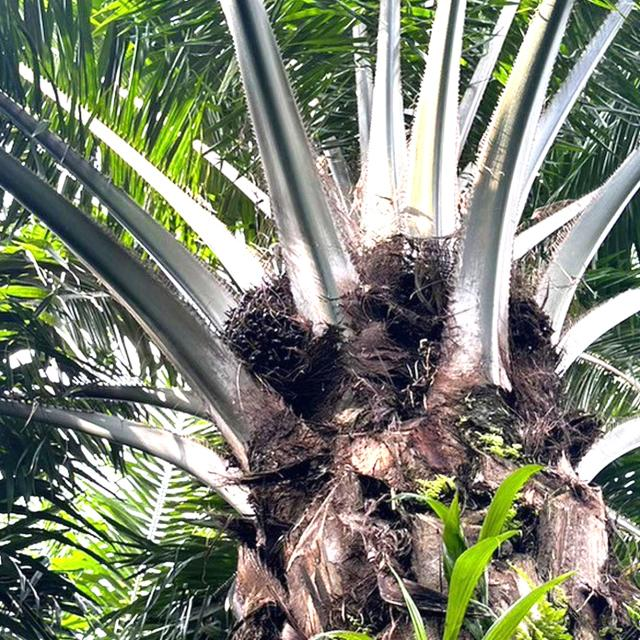almost: (218, 294, 333, 398)
